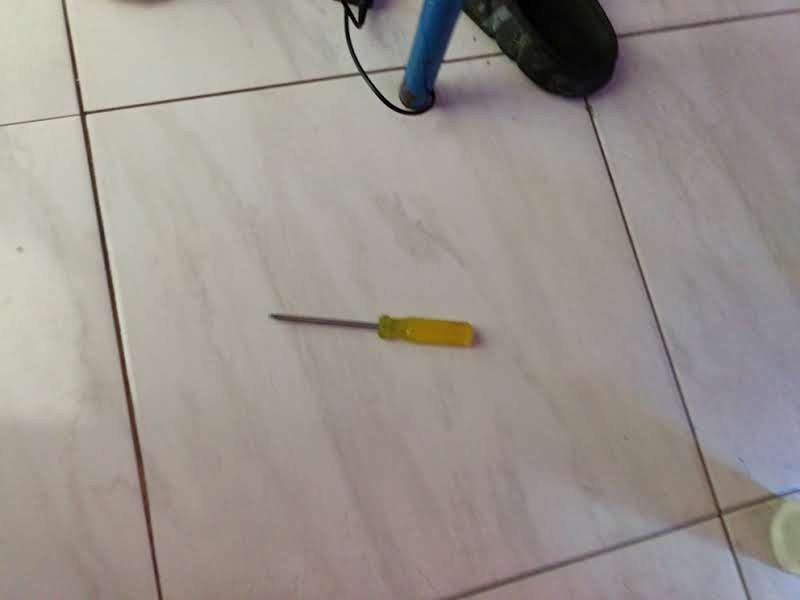Destornillador: (270, 314, 474, 347)
